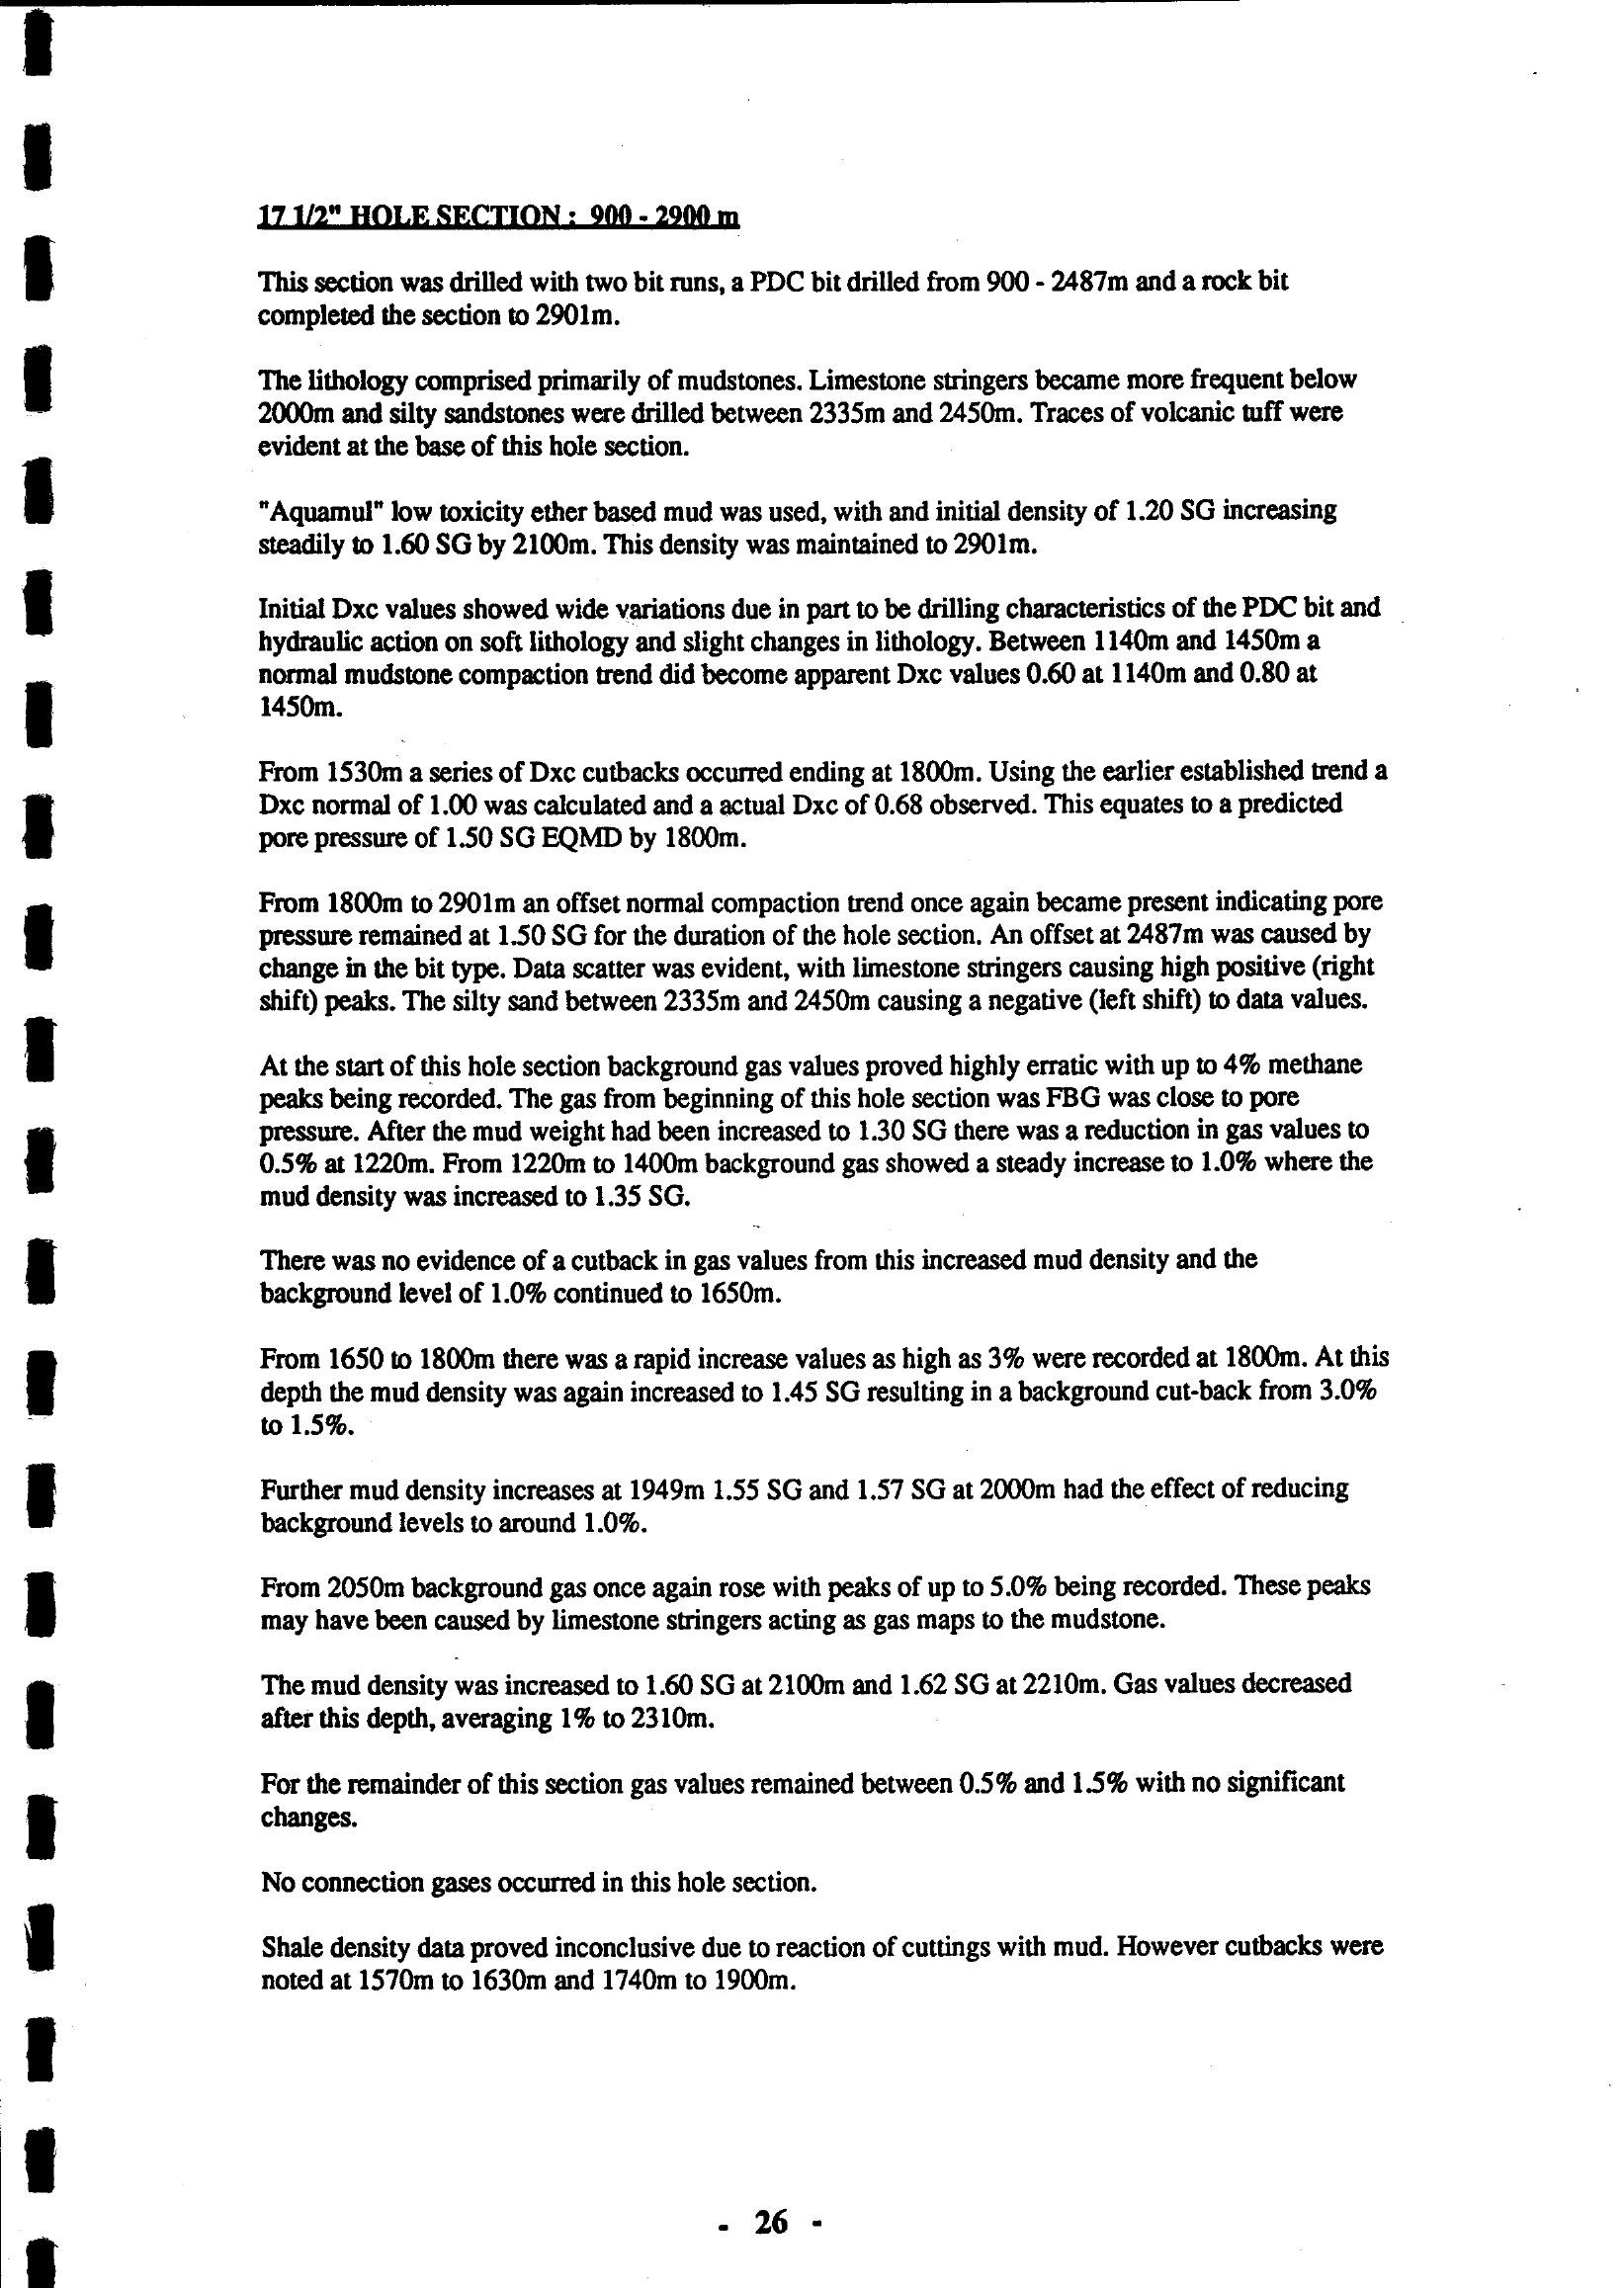text: (199, 176, 1452, 2068)
